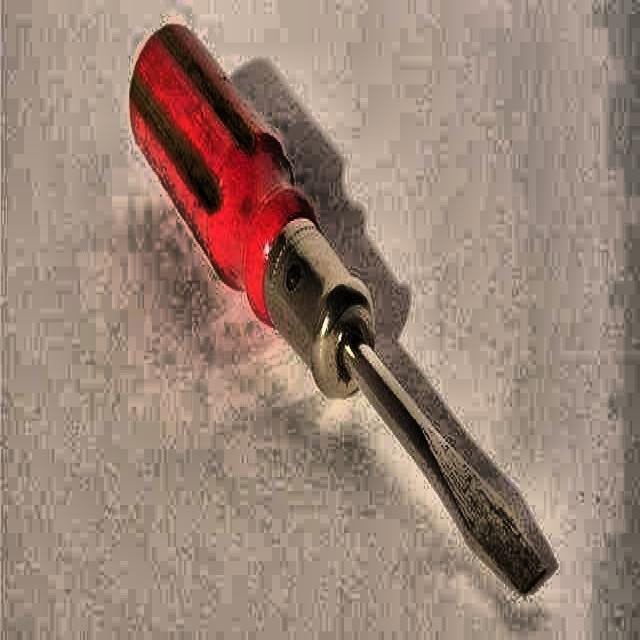screwdriver: (128, 21, 546, 596)
